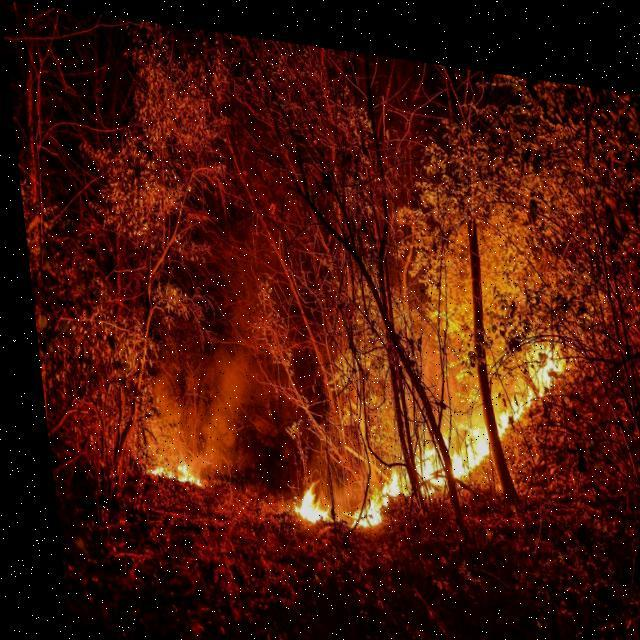Fire: (262, 276, 590, 536), (131, 440, 194, 484)
